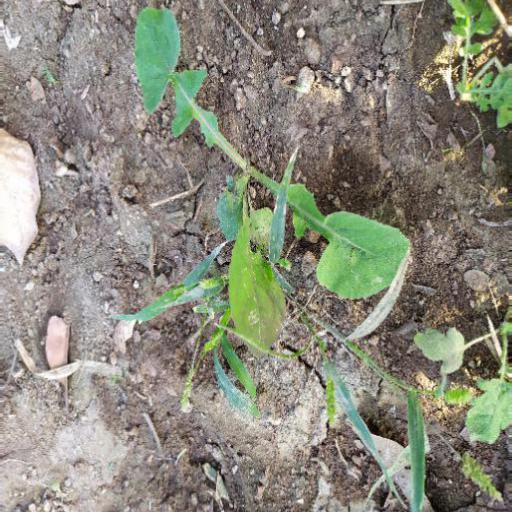weed: (119, 5, 417, 402)
